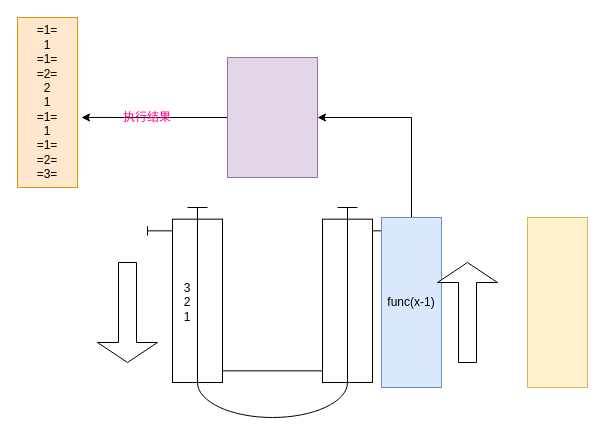
The diagram is 605 pixels wide and 435 high, and some of its shapes have lost their labels. Each missing label, with the centre of its shape:
if x > 0: print(x) func(x - 1) func(x - 1) print(f"={x}=") else: return 0: pixel 272 117
x的值 3 2 1 从下往上: pixel 557 302
